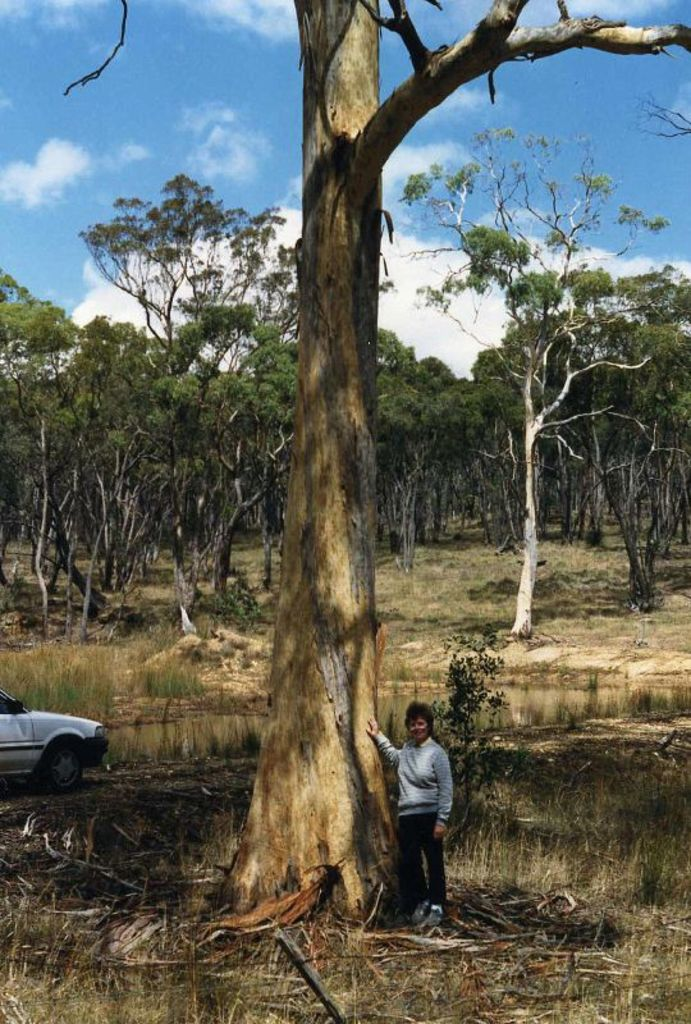Tree: (0, 0, 691, 931), (186, 0, 691, 917)
